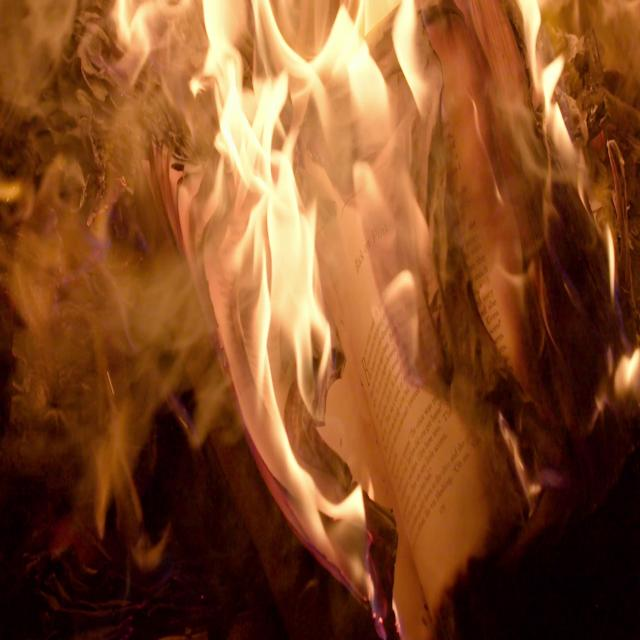Fire: (0, 3, 640, 625)
